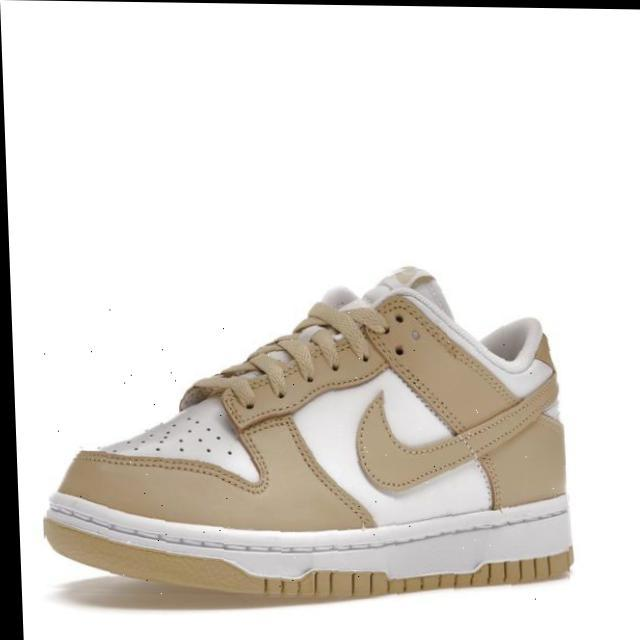J1_ShoeLogo: (43, 264, 575, 600)
J1_StitchPattern: (176, 290, 555, 512), (43, 493, 575, 598), (178, 298, 388, 410), (77, 396, 269, 495), (260, 546, 574, 599), (283, 416, 377, 529), (74, 446, 267, 494), (235, 324, 344, 397), (261, 569, 390, 598)
